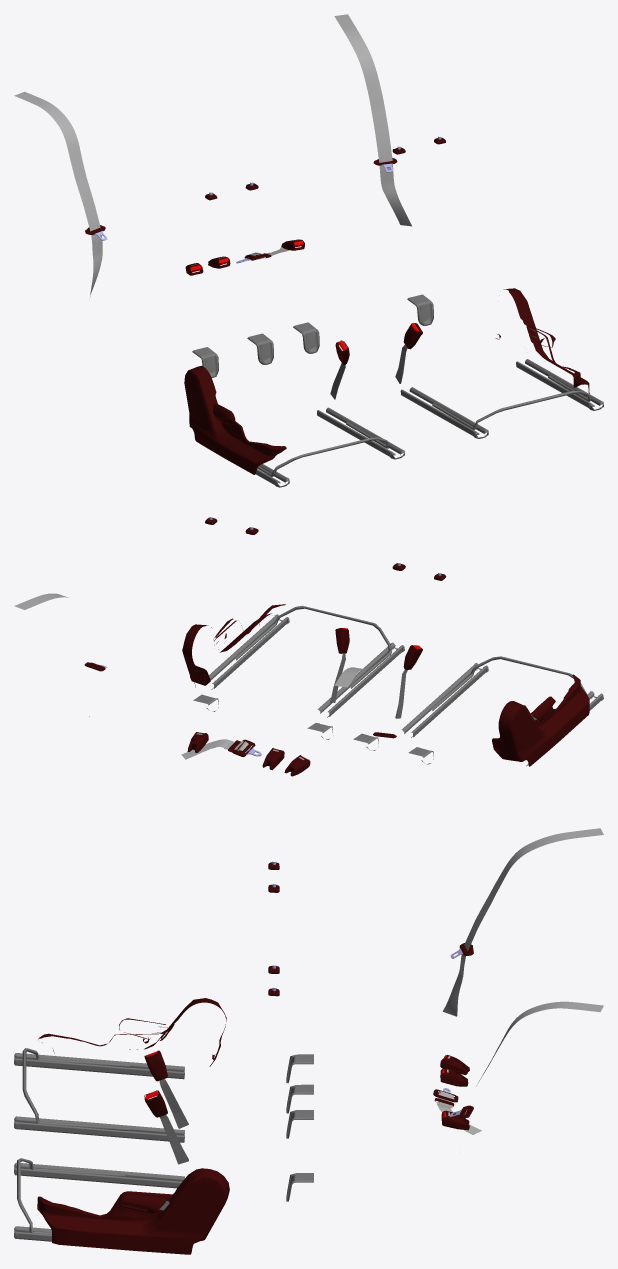
File: TOYOTA_URBAN_CRUISER_MID_IN_SEAT_MECH.glb
3 renders of one model, top to bottom at view 1: azimuth 30°, elevation 25°; view 2: azimuth 150°, elevation 25°; view 3: azimuth 270°, elevation 25°, orthographic. The views are drawn at different scales.
Visible parts, largest first — view 1: TOYOTA_URBAN_CRUISER_MID_IN_SEAT_MECH; view 2: TOYOTA_URBAN_CRUISER_MID_IN_SEAT_MECH; view 3: TOYOTA_URBAN_CRUISER_MID_IN_SEAT_MECH.
Part boxes in pixels (x1,y1,x2,y2): TOYOTA_URBAN_CRUISER_MID_IN_SEAT_MECH: [14, 14, 603, 487]; TOYOTA_URBAN_CRUISER_MID_IN_SEAT_MECH: [14, 517, 603, 776]; TOYOTA_URBAN_CRUISER_MID_IN_SEAT_MECH: [14, 828, 603, 1254].
Size of the model in its own units: 1.25 by 0.7681 by 1.68.
